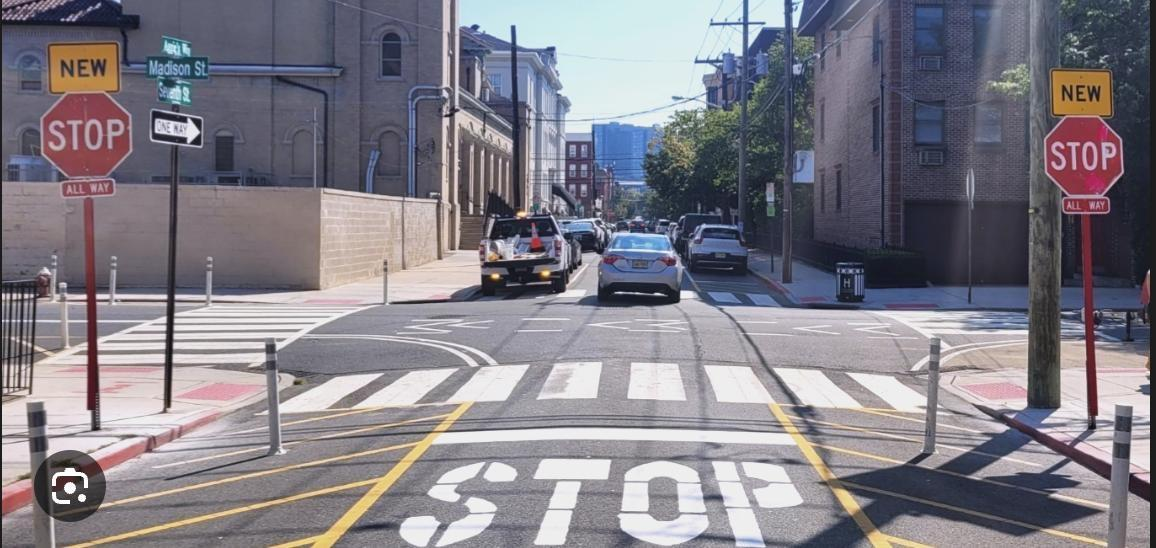Stop-Sign: (41, 92, 131, 178), (1046, 115, 1124, 196)
